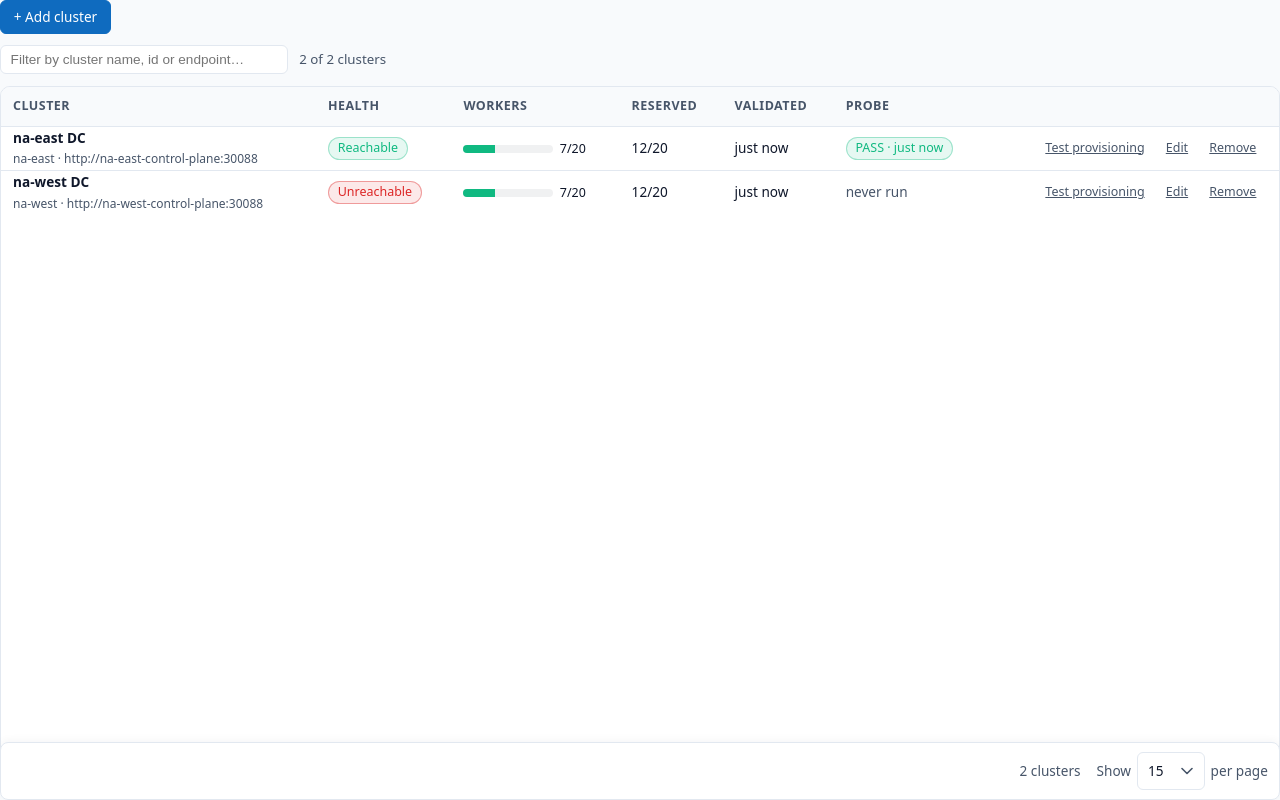
Test: ClustersPage (CLUSTER-CAPACITY) › registers a cluster through the validated add flow
Click the button "+ Add cluster": [56, 17] box 0,0 -> 111,34
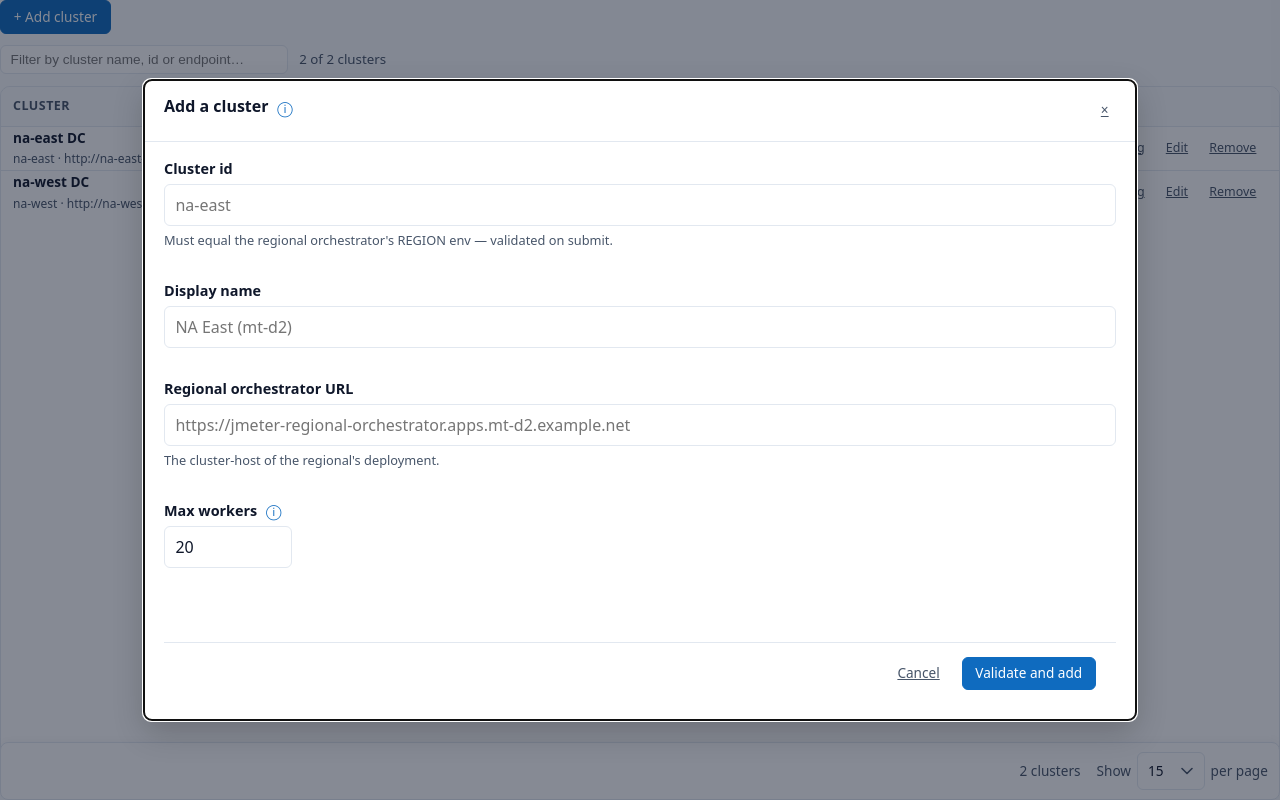
In the field labelled "Cluster id": [640, 205] box 164,184 -> 1116,226, type "na-south"
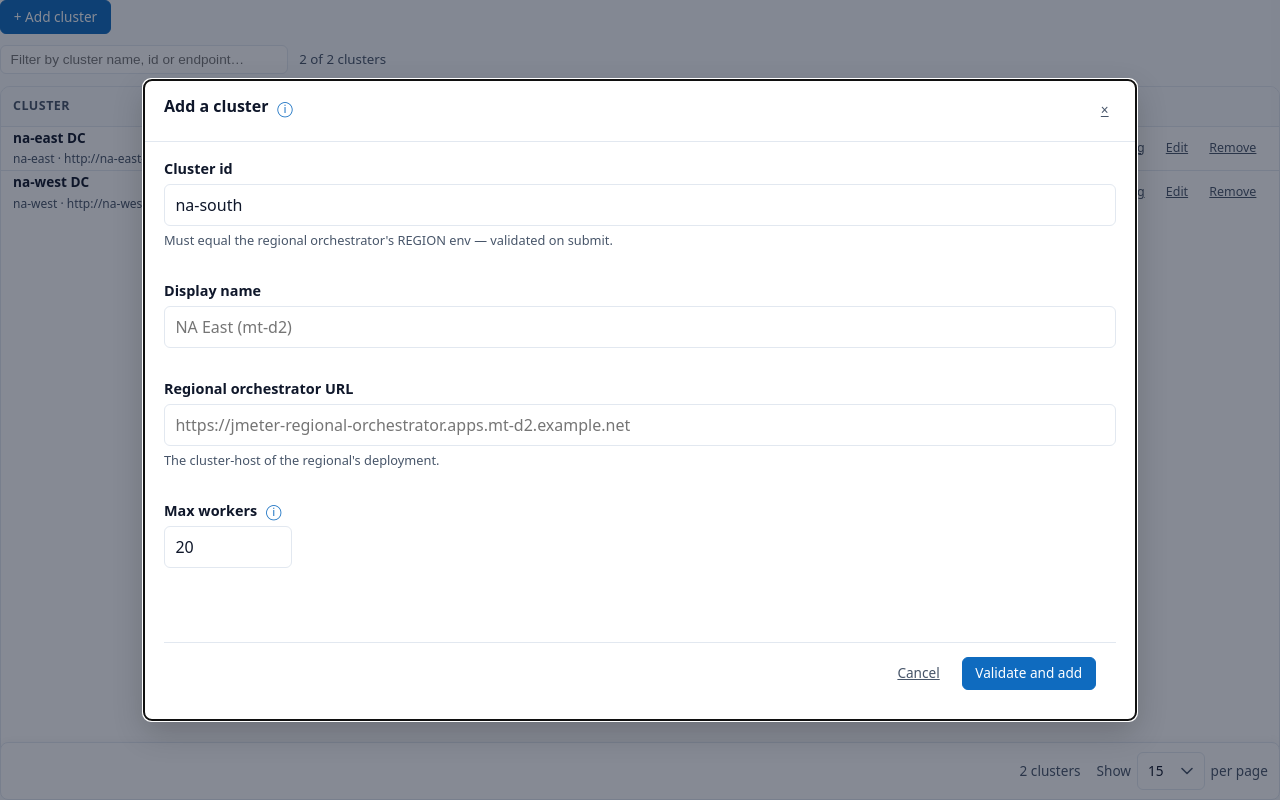
In the field labelled "Display name": [640, 327] box 164,306 -> 1116,348, type "NA South"
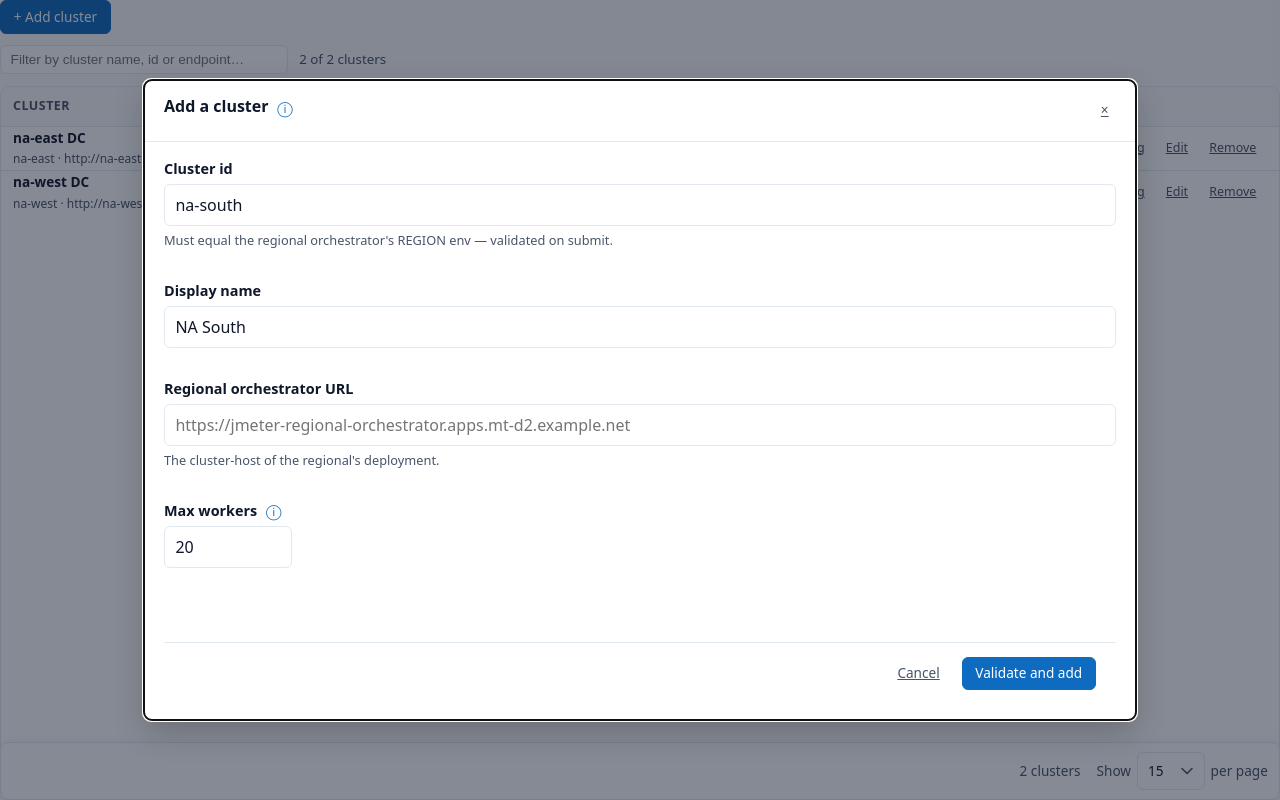
In the field labelled "Regional orchestrator URL": [640, 425] box 164,404 -> 1116,446, type "http://na-south:30088"
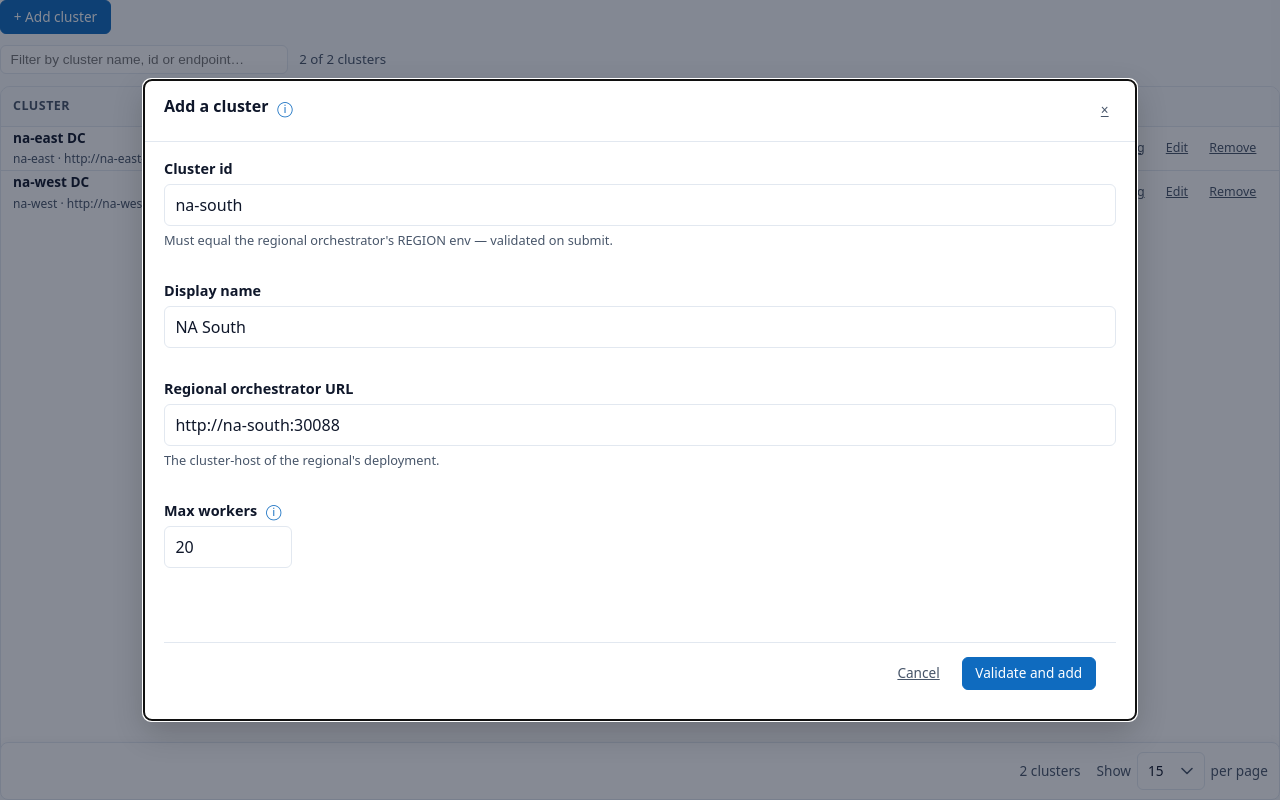
Click the button "Validate and add": [1029, 674] box 962,657 -> 1096,690
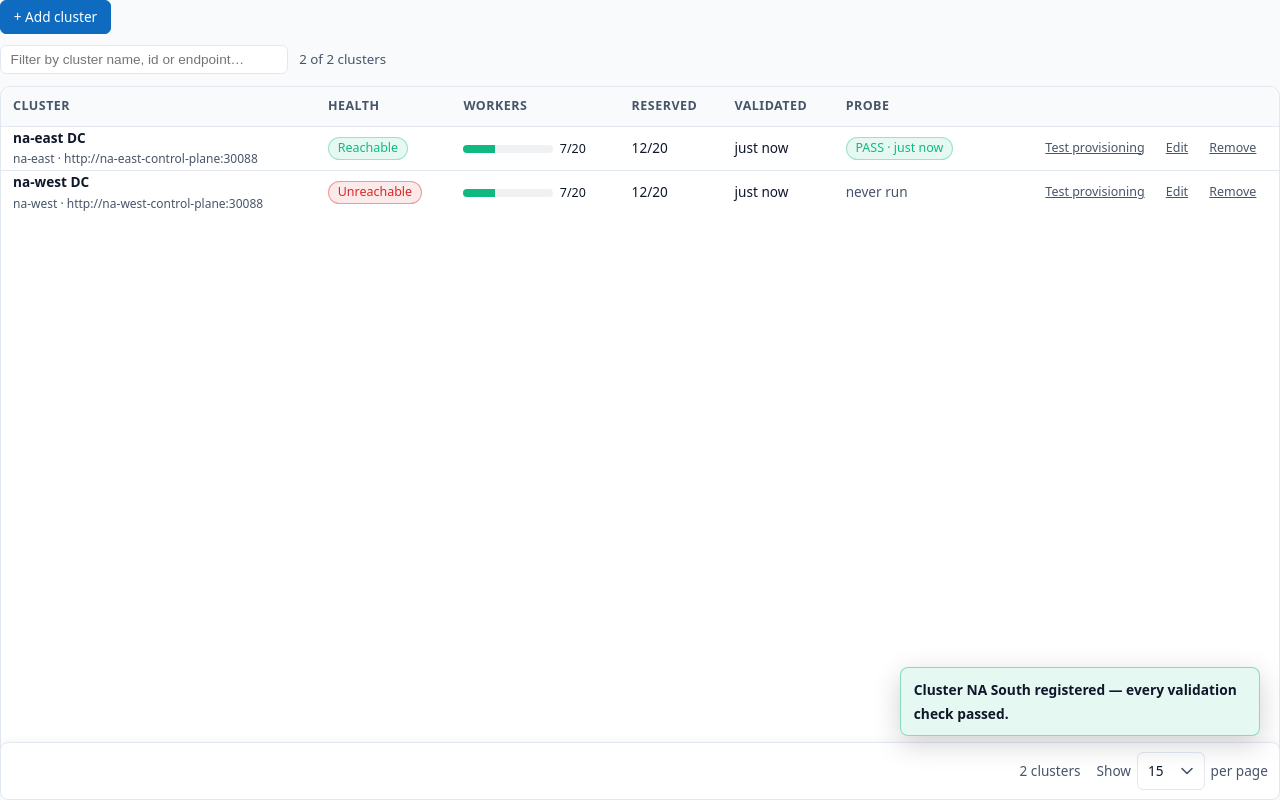
Expected: the text "Cluster NA South registered — every validation check passed." is shown, 914,680 -> 1237,723
